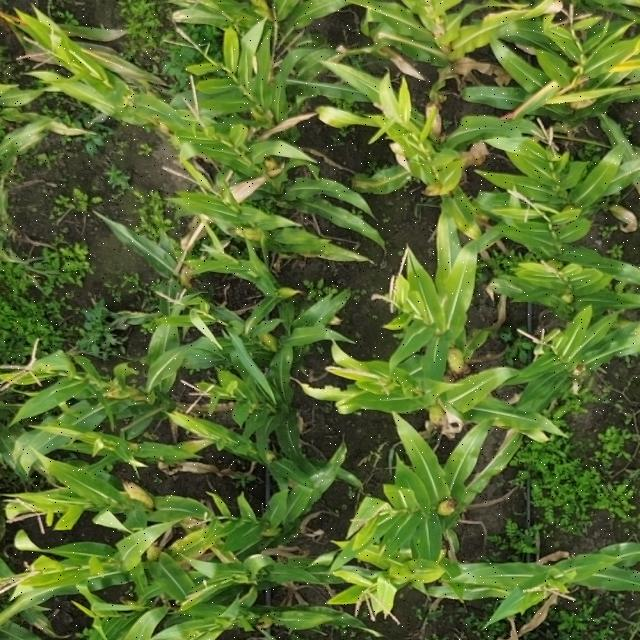gray-leaf-spot: (312, 463, 342, 495), (490, 83, 529, 104), (454, 435, 483, 463), (322, 302, 348, 324), (440, 234, 466, 256), (281, 608, 309, 624)
northern-leaf-blight: (347, 170, 400, 195)
